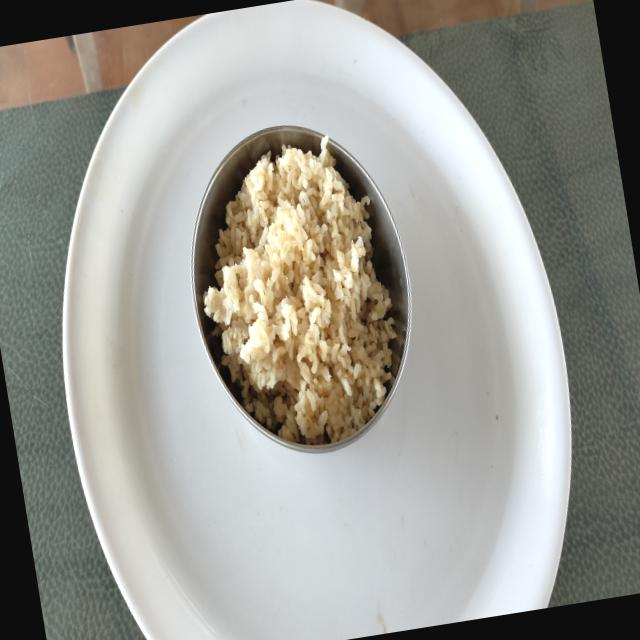brown-rice: (204, 139, 395, 446)
